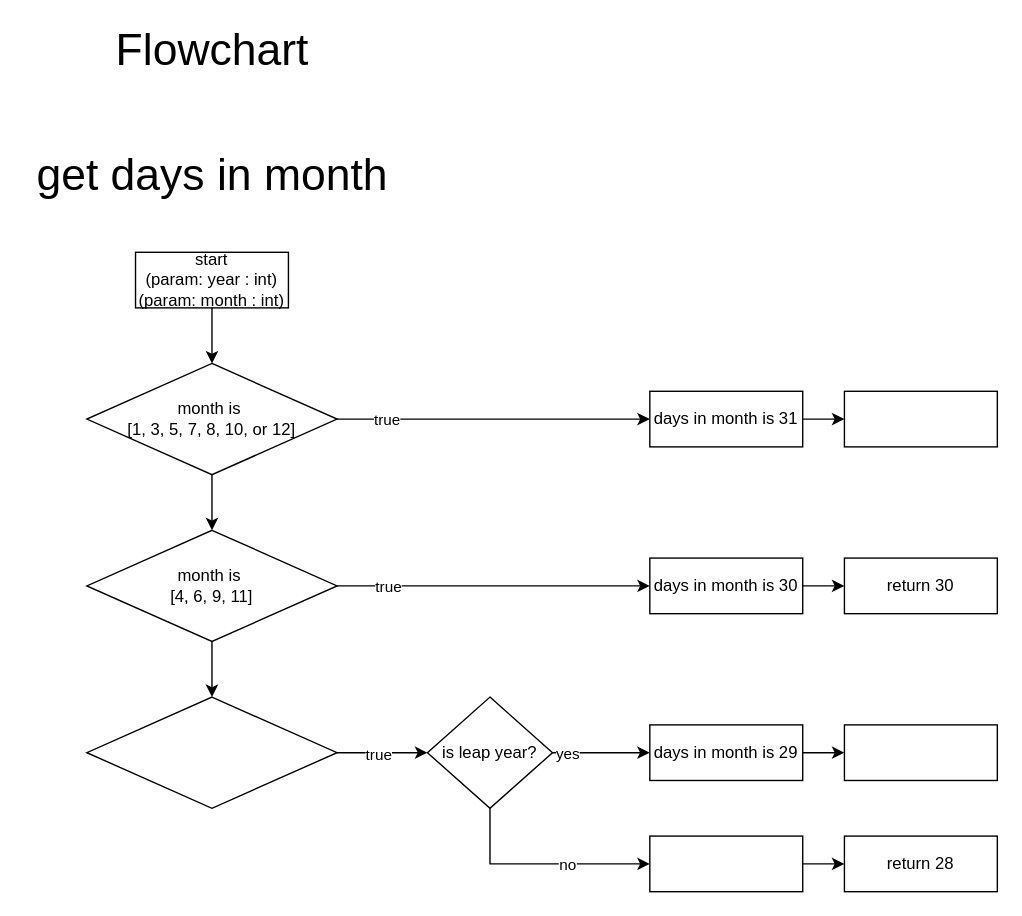
The diagram is 1022 pixels wide and 916 high, and some of its shapes have lost their labels. Each missing label, with the centre of its shape:
"days in month is 28" goes at point (725, 863).
"month is 2 (february)" goes at point (211, 752).
"return 29" goes at point (920, 751).
"return 31" goes at point (920, 418).
